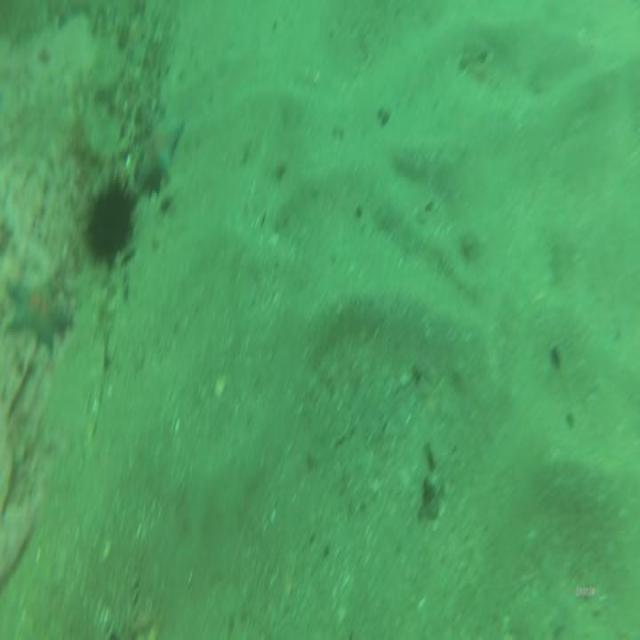echinus: (86, 169, 136, 262)
starfish: (4, 269, 71, 354), (130, 117, 186, 193)
